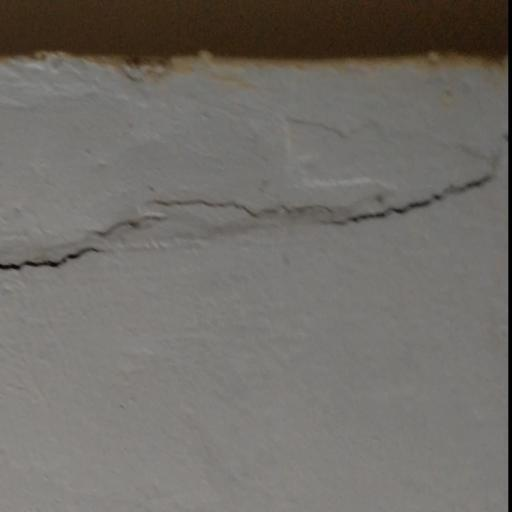major_crack: (0, 141, 503, 280)
